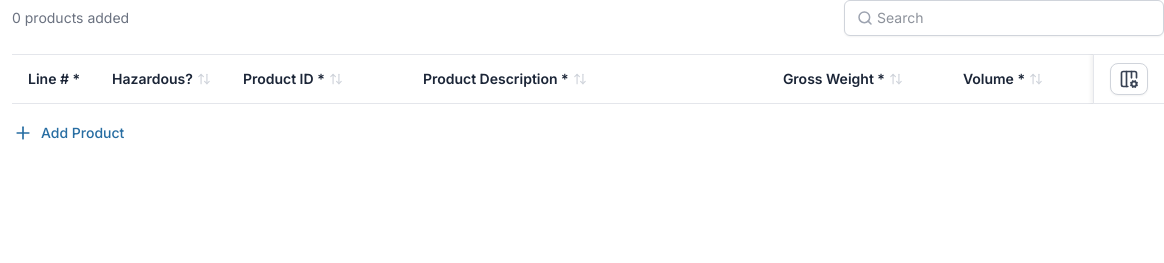
Test: product count › deleting a row decrements the counter
Click the button "Add Product" at (69, 133), box [12,122,125,144]
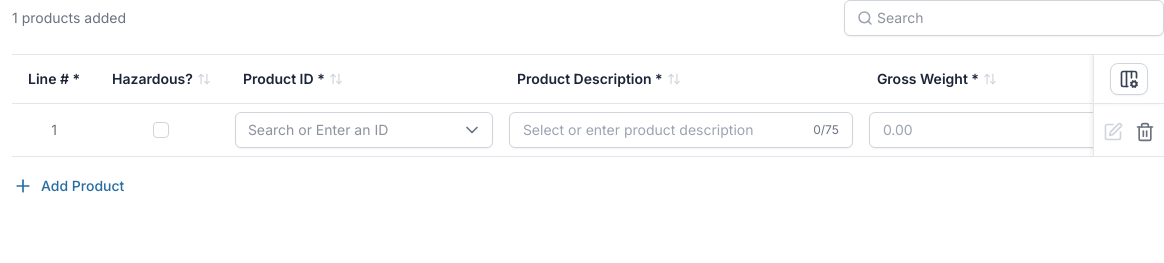
Click the button "Add Product" at (69, 186), box [12,175,125,197]
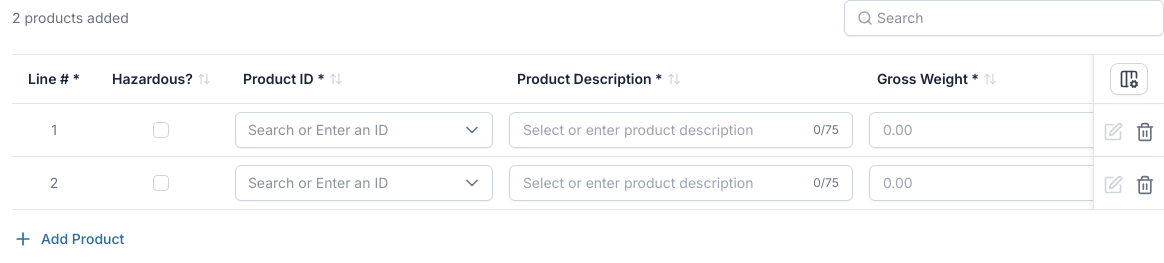
Now the text "2 products added" is shown, box [12,8,129,28]
Click the 1st button named "Delete row" at (1145, 132), box [1135,122,1155,142]
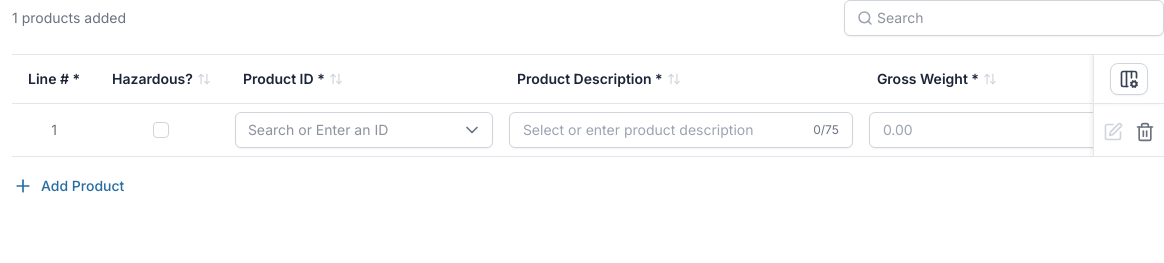
Now the text "1 products added" is shown, box [12,8,126,28]
